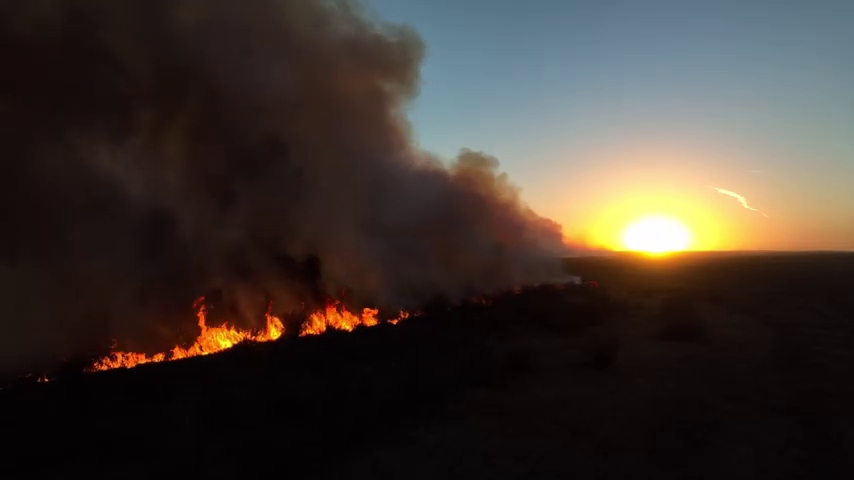forest_fire: (86, 296, 284, 371), (299, 300, 378, 335), (387, 311, 408, 324)
